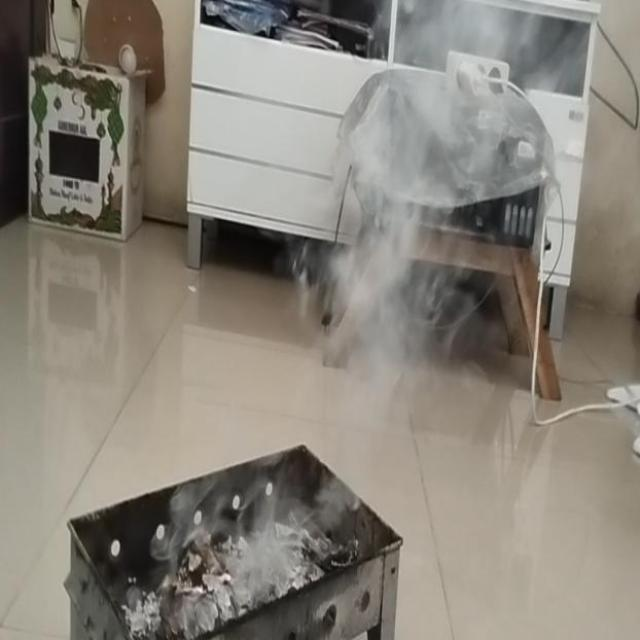fire: (312, 117, 430, 464), (414, 1, 491, 182)
